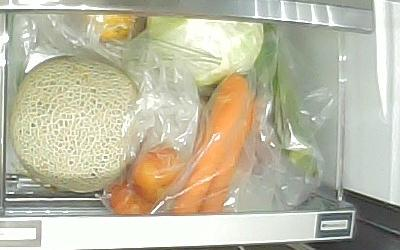cabbage: (148, 14, 264, 85)
carrot_vinyl: (171, 72, 252, 215), (199, 97, 258, 214)
melon: (9, 55, 141, 193)
prune_vinyl: (132, 146, 186, 200), (107, 165, 157, 215)
tangerine_vinyl: (87, 14, 139, 43)
zucchini_vinyl: (254, 22, 318, 178)
